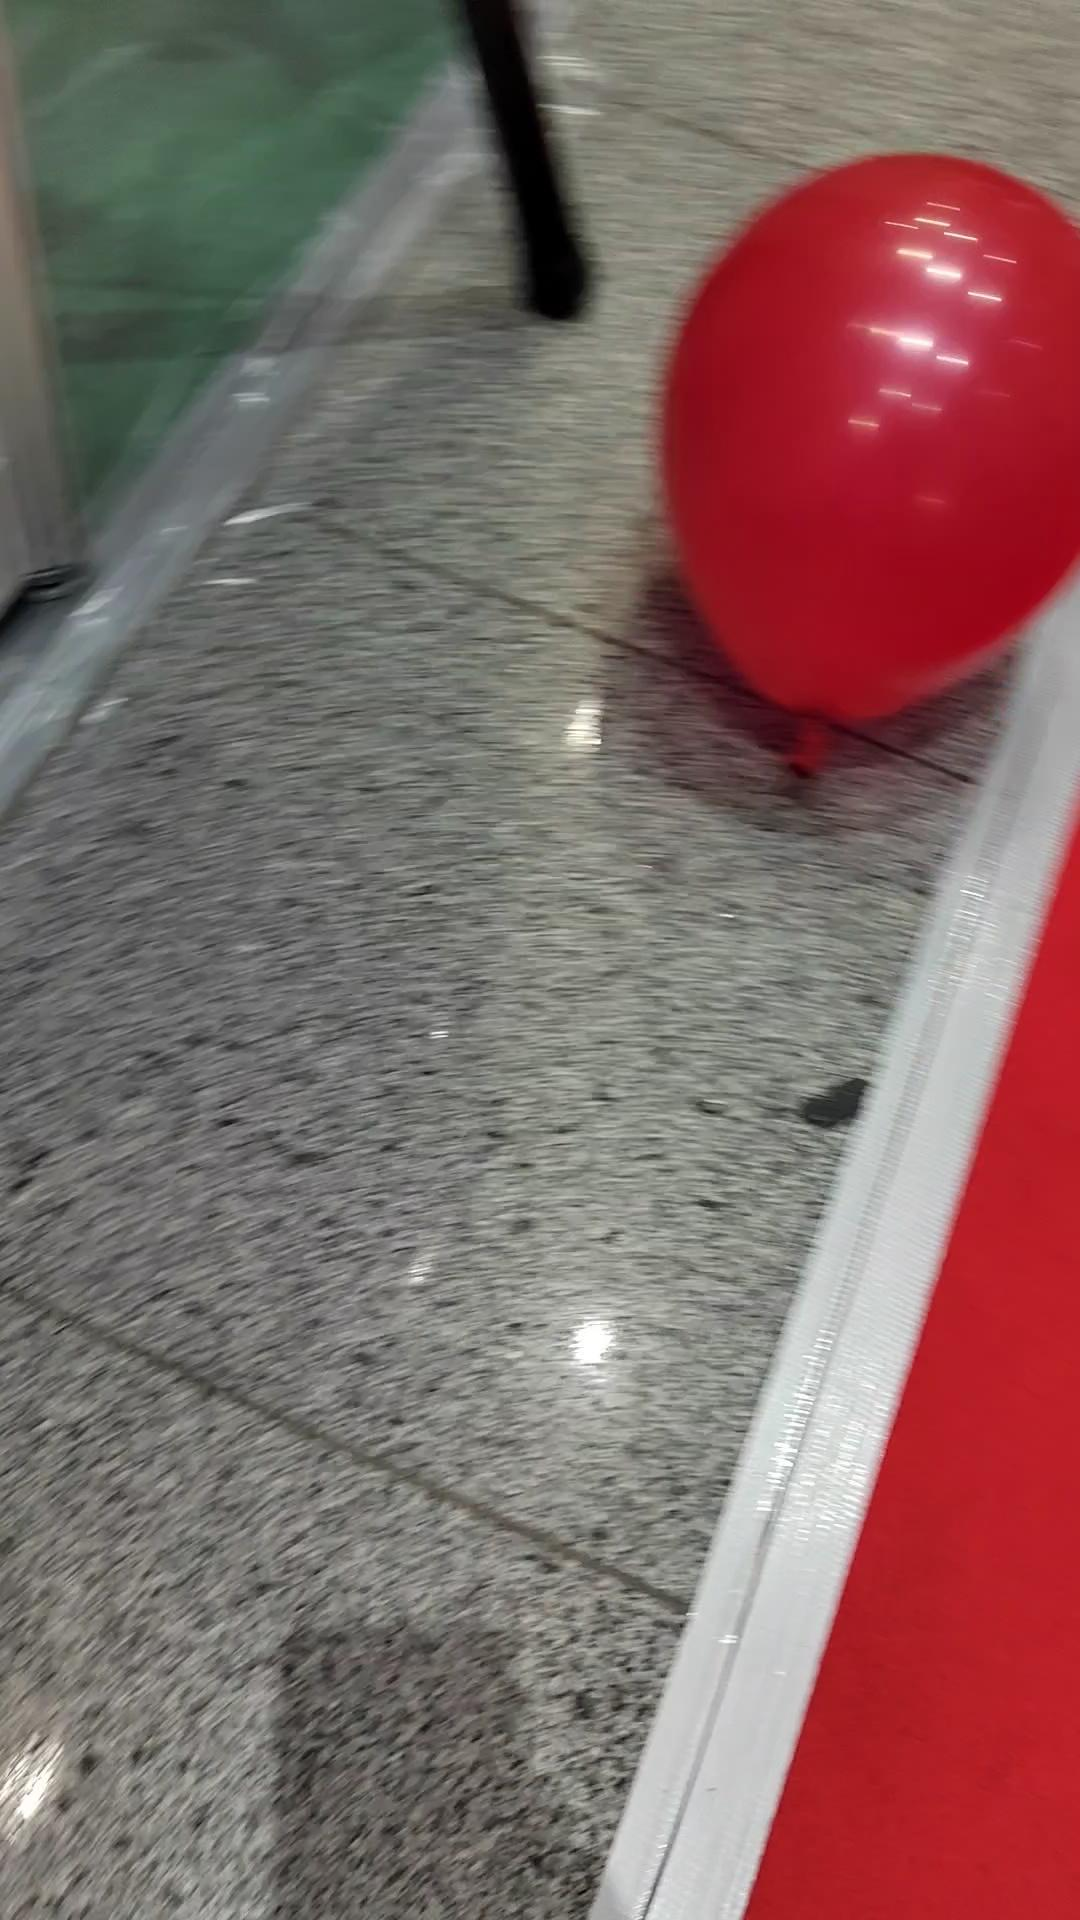red: (657, 150, 1080, 742)
